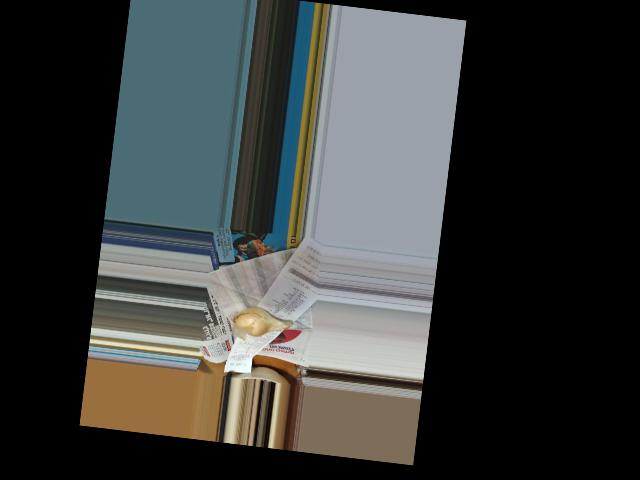onion: (233, 303, 287, 337)
